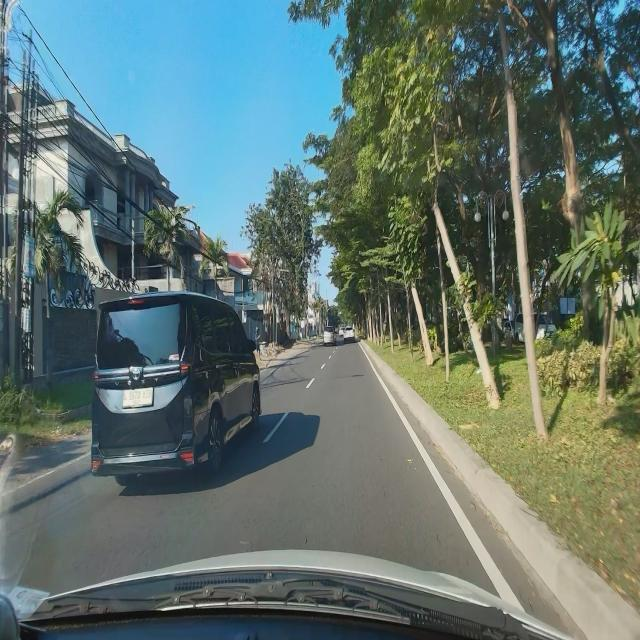car: (90, 290, 263, 488)
license-plate: (122, 387, 154, 409)
